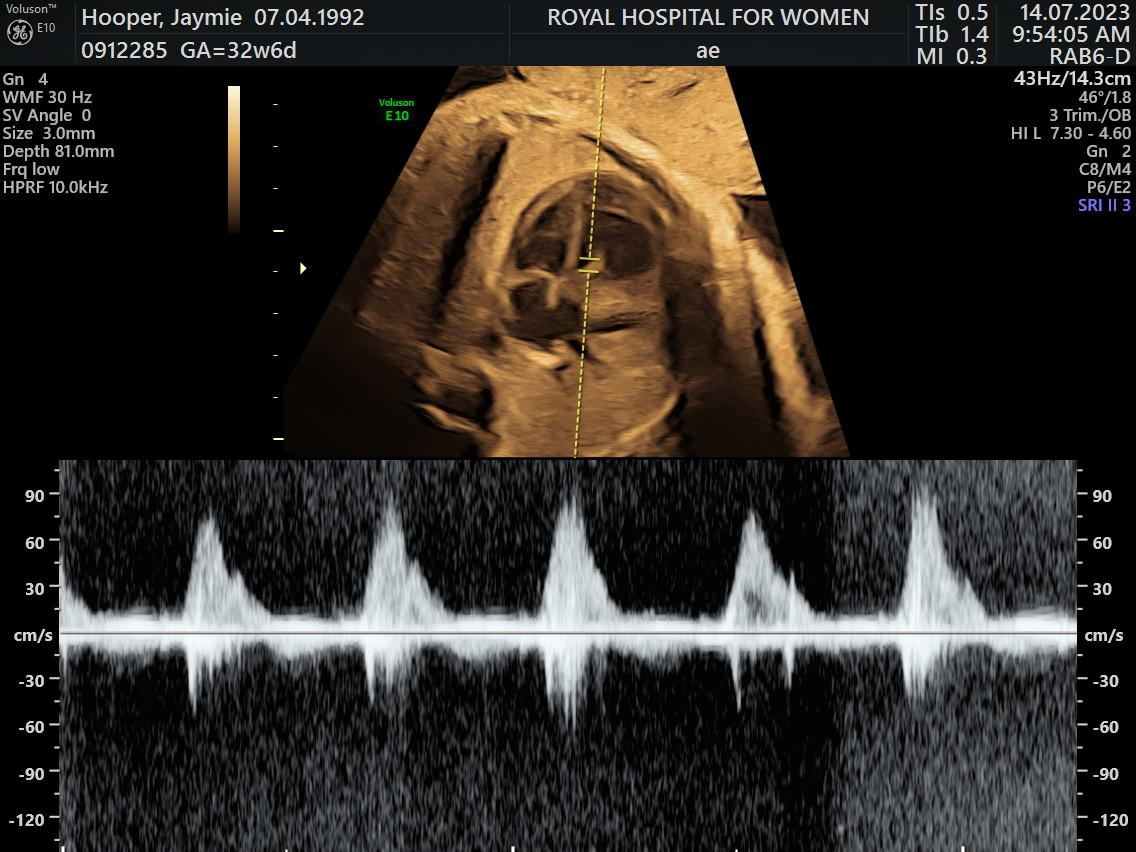Ultrasound-Waves: (59, 458, 1078, 852)
